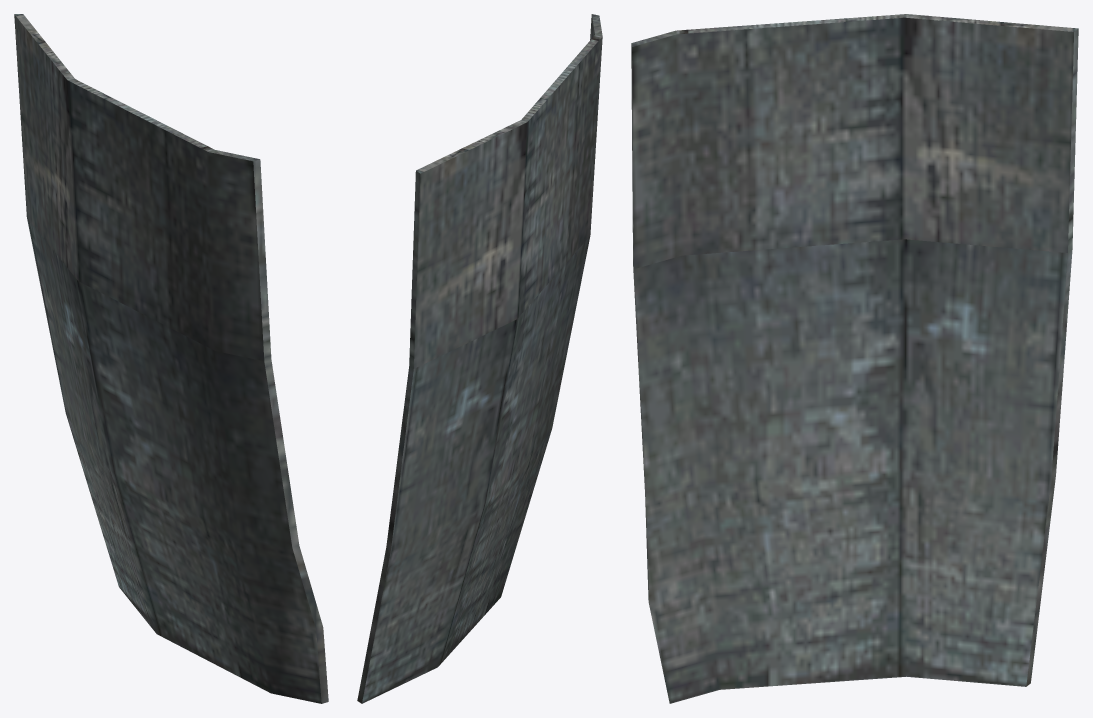
The model's file is flower_barrel_dead_p4.glb.
The picture shows the model from 3 angles, left to right: view 1: azimuth 30°, elevation 25°; view 2: azimuth 150°, elevation 25°; view 3: azimuth 270°, elevation 25°; orthographic projection. The views are drawn at different scales.
Parts seen in each view (by area): view 1: flower_barrel_dead_p4; view 2: flower_barrel_dead_p4; view 3: flower_barrel_dead_p4.
Boxes of the visible parts, <box> form: flower_barrel_dead_p4: <box>14,14,328,703</box>; flower_barrel_dead_p4: <box>357,14,602,703</box>; flower_barrel_dead_p4: <box>631,14,1078,703</box>.
Size of the model in its own units: 0.1194 by 0.439 by 0.2907.
1 material, 1 textured.
